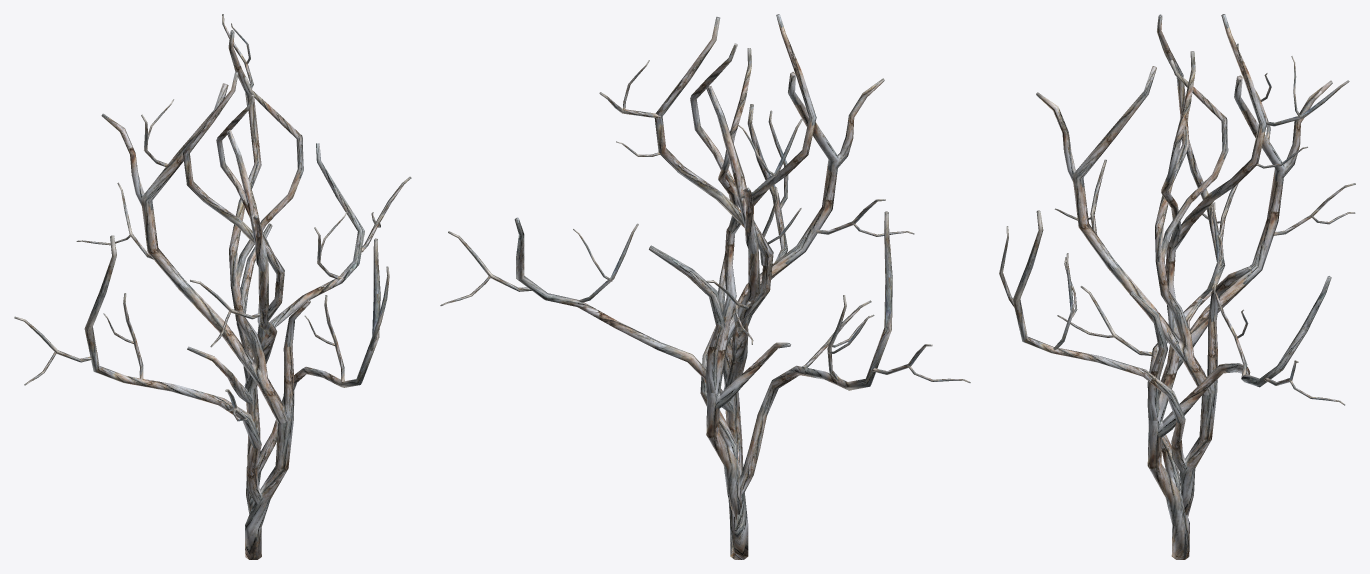
Rendered from SM_S_Soul_bush.glb.
3 renders of one model, left to right at view 1: azimuth 30°, elevation 25°; view 2: azimuth 150°, elevation 25°; view 3: azimuth 270°, elevation 25°, orthographic. The views are drawn at different scales.
Parts seen in each view (by area): view 1: SM_S_Soul_bush; view 2: SM_S_Soul_bush; view 3: SM_S_Soul_bush.
Boxes of the visible parts, x1,y1,x2,y2 form: SM_S_Soul_bush: (14, 14, 411, 559); SM_S_Soul_bush: (440, 14, 970, 559); SM_S_Soul_bush: (999, 14, 1355, 559).
Bounding box in the file's own units: 5.26 × 5.93 × 3.54.
1 material, 1 textured.
